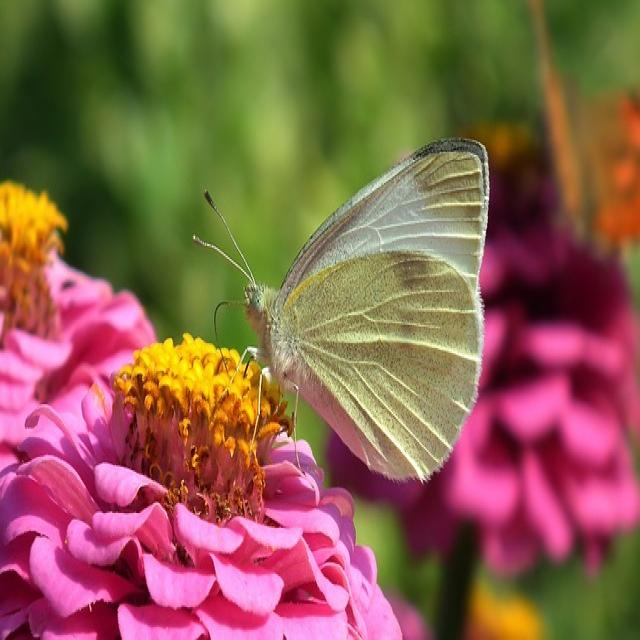butterfly: (191, 134, 490, 485)
